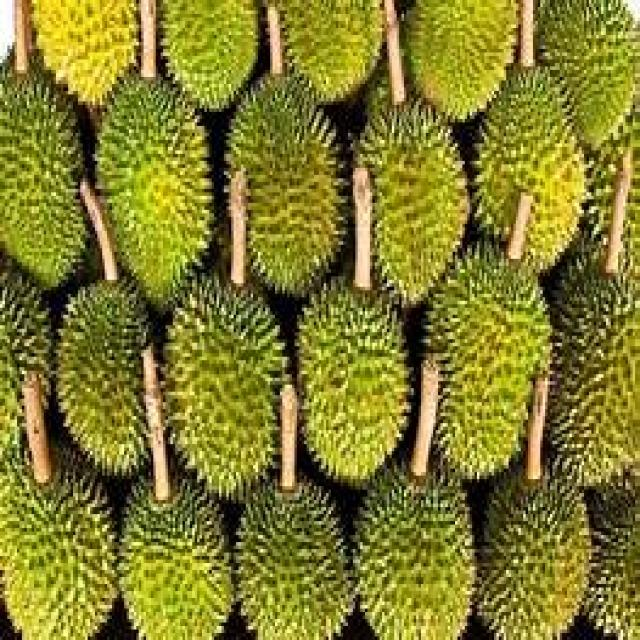immature: (419, 240, 554, 480), (161, 267, 293, 503), (92, 66, 216, 315), (224, 72, 351, 302), (293, 271, 412, 490), (353, 92, 472, 310), (472, 63, 588, 278), (344, 451, 473, 640), (0, 437, 117, 640), (468, 458, 592, 640), (0, 55, 90, 290), (56, 271, 158, 478), (115, 472, 232, 640), (231, 475, 348, 640)
